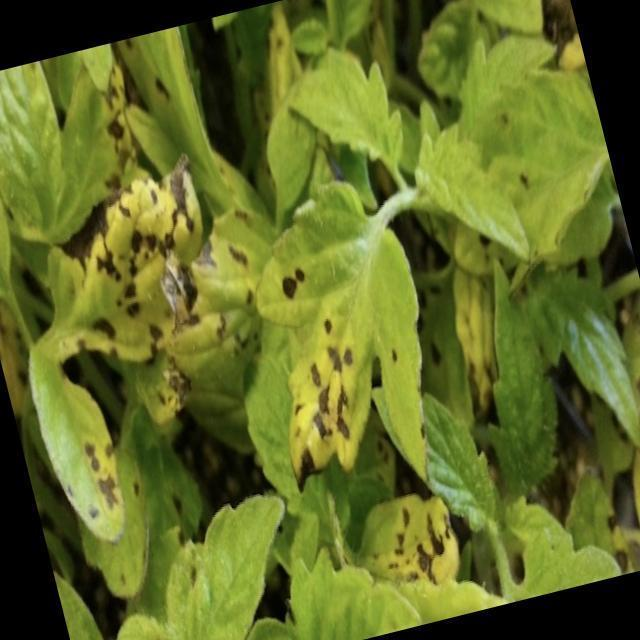Bacterial Spot: (256, 295, 403, 501), (70, 160, 228, 347), (364, 482, 471, 602), (218, 200, 326, 317), (49, 425, 132, 537), (615, 352, 640, 563)
